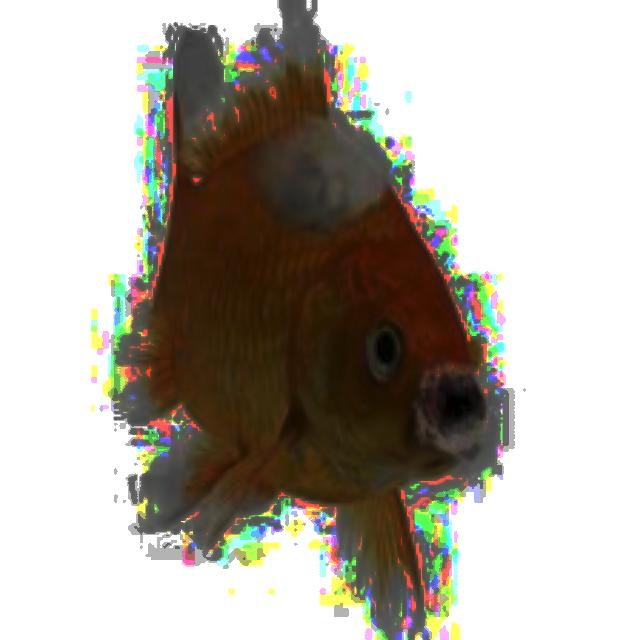Fungal Disease -Saprolegniasis-: (149, 32, 484, 586), (149, 32, 484, 586), (149, 34, 484, 586)
